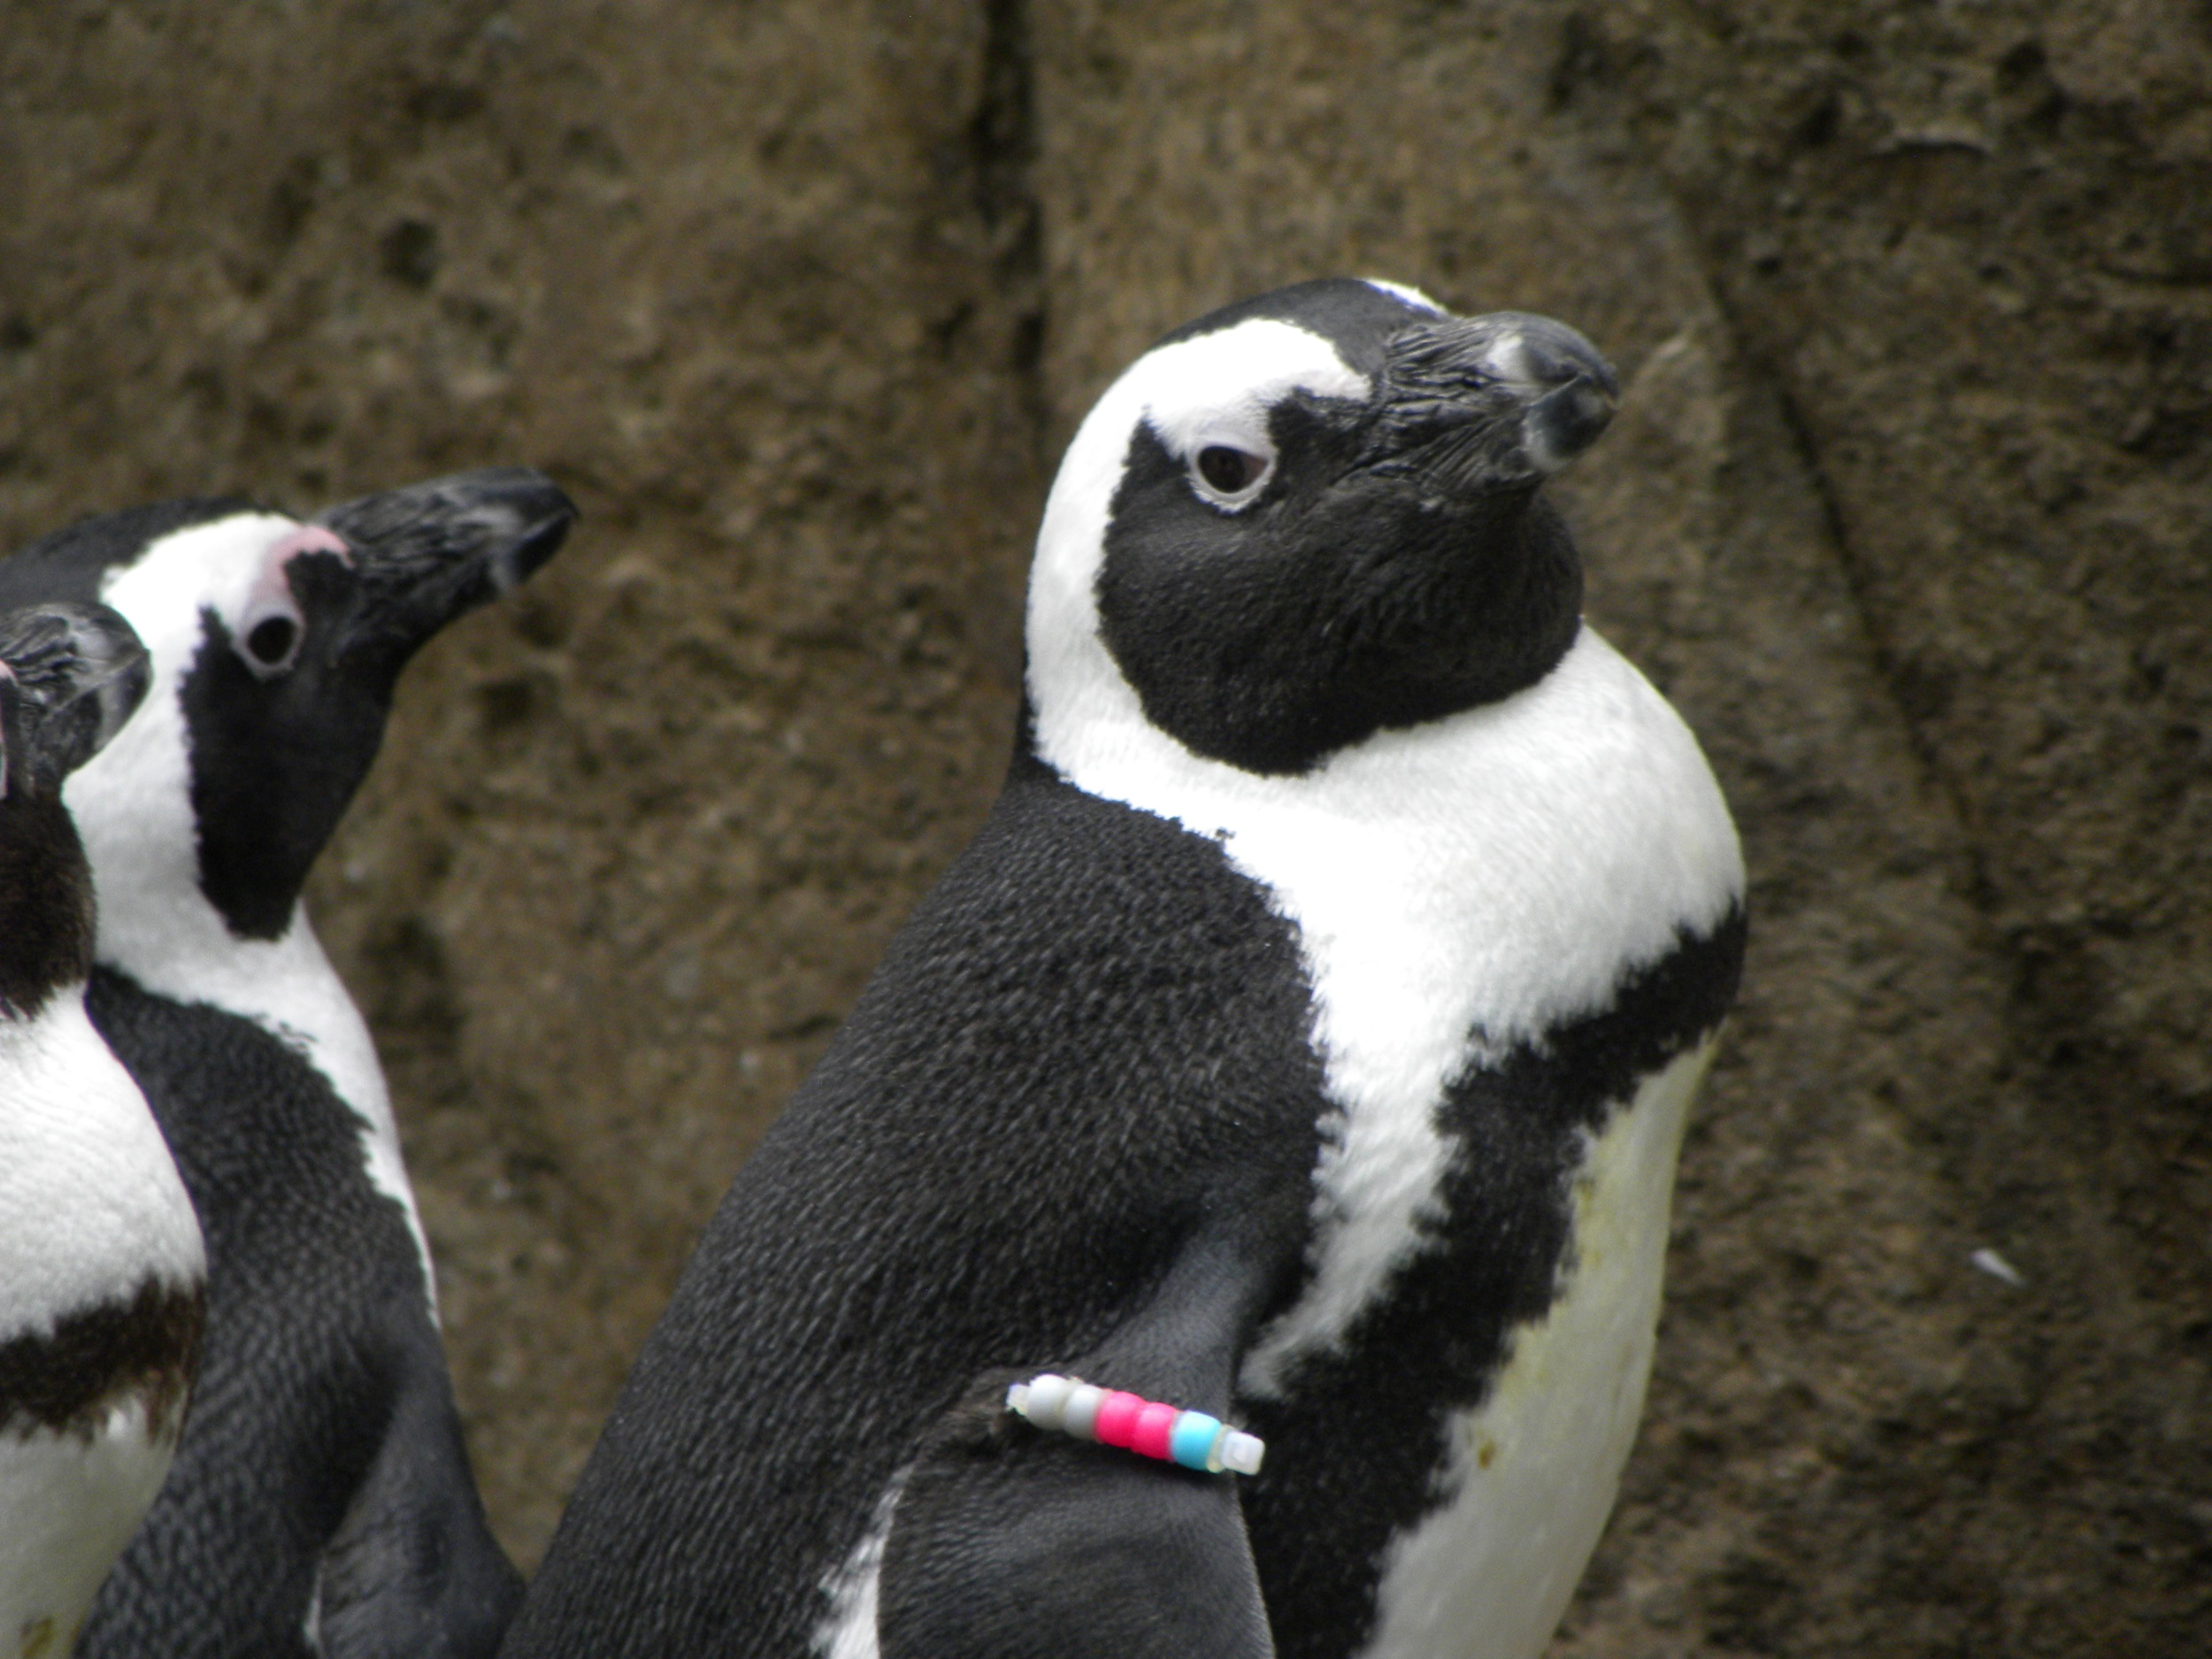penguin: (503, 265, 1747, 1659)
